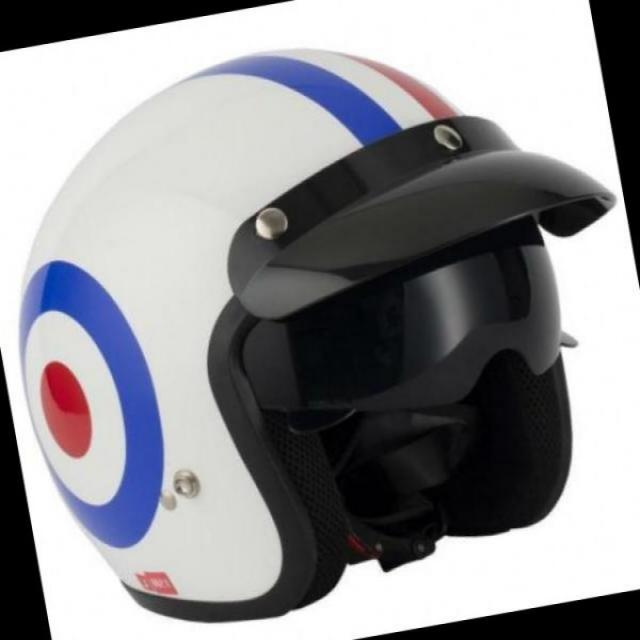Helmet: (4, 89, 600, 540)
